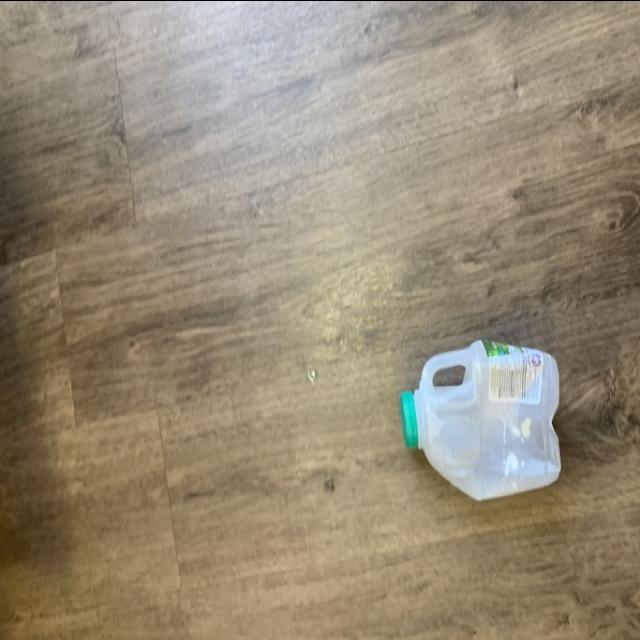HDPEM: (399, 335, 569, 507)
